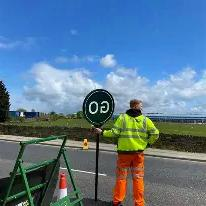Go: (84, 90, 113, 125)
